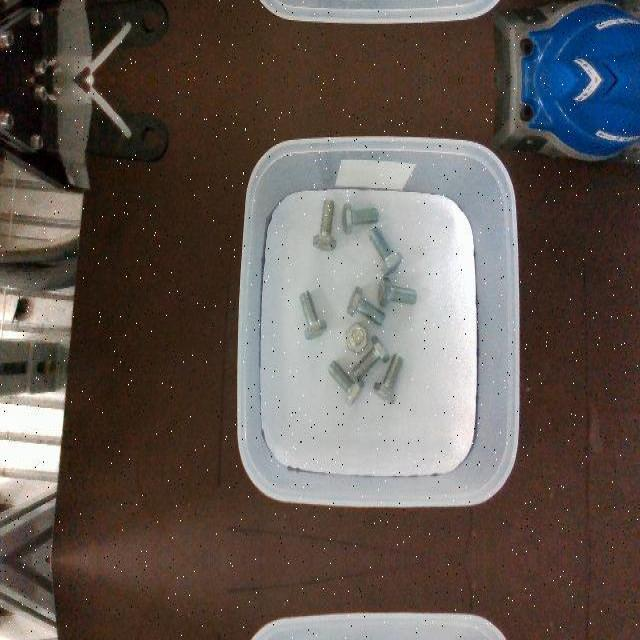screw: (352, 333, 390, 379), (368, 225, 402, 275), (327, 359, 363, 405), (346, 286, 384, 326), (374, 353, 404, 403), (300, 289, 327, 339), (312, 198, 336, 250), (341, 203, 379, 235), (378, 277, 418, 307), (346, 322, 367, 352)
